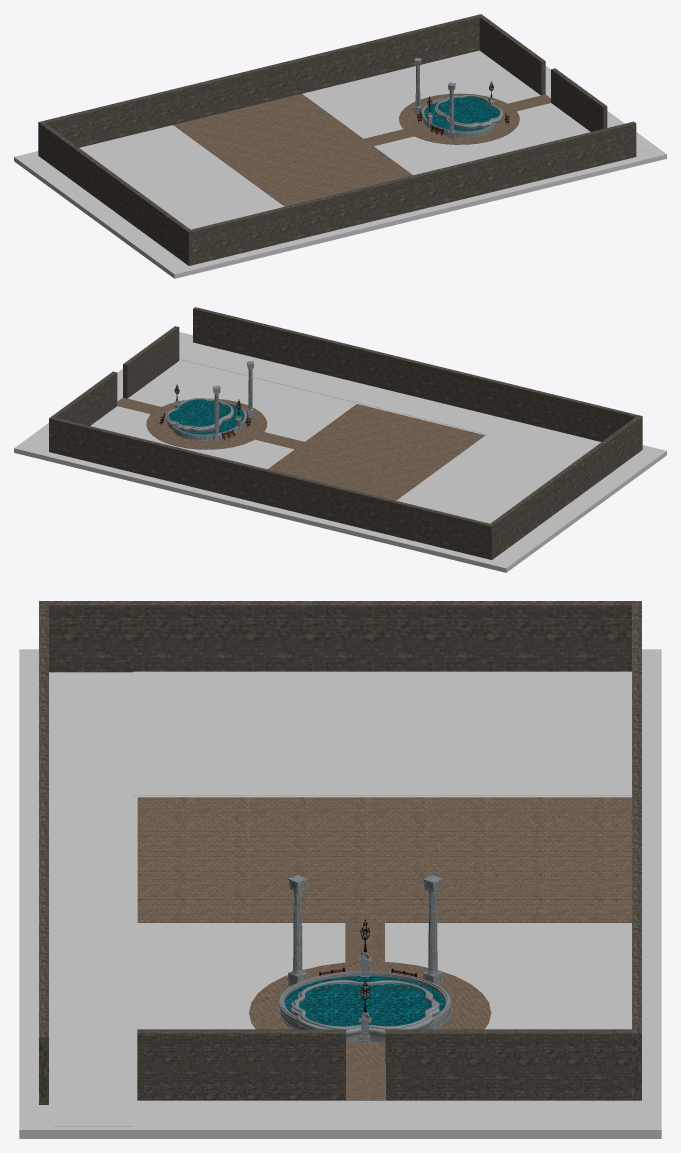
File: Estructura.obj
The picture shows the model from 3 angles, top to bottom: view 1: azimuth 30°, elevation 25°; view 2: azimuth 150°, elevation 25°; view 3: azimuth 270°, elevation 25°; orthographic projection. The views are drawn at different scales.
Visible parts, largest first — view 1: Estructura; view 2: Estructura; view 3: Estructura.
Part boxes in pixels (box(x1,y1,x2,y2)): Estructura: box(14, 14, 666, 278); Estructura: box(14, 307, 666, 572); Estructura: box(19, 601, 661, 1138).
Bounding box in the file's own units: 61.45 × 7.04 × 34.73.
